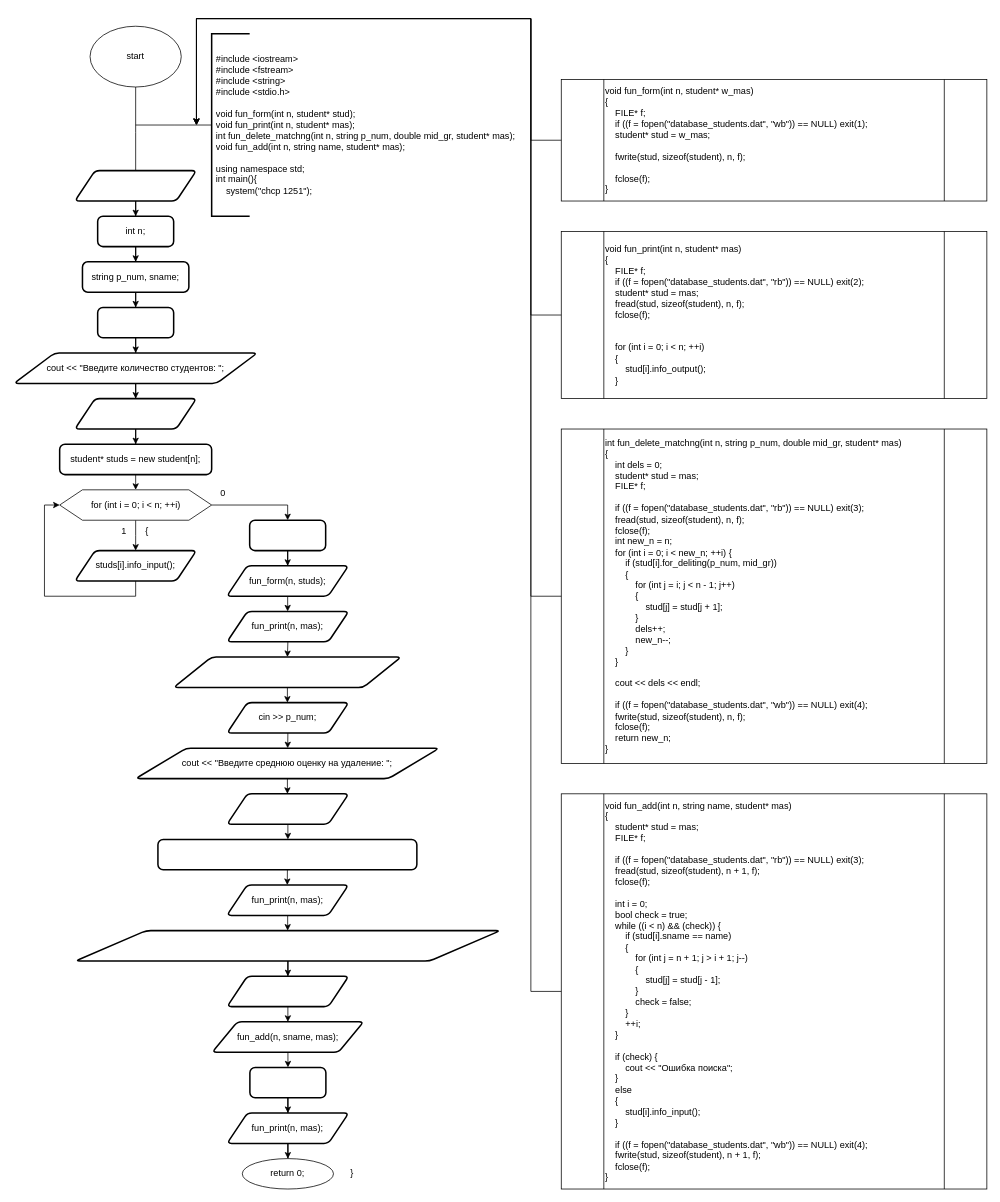
Some shapes in this 1000 by 1202 pixel diagram are drawn without their labels. Here are the shapes that lost their labels. From the top down, the centre of each, then its label:
point (135, 185): system("chcp 1251");
point (135, 322): int mid_gr;
point (135, 413): cin >> n;
point (287, 535): student mas[50];
point (287, 672): cout << "Введите номер на удаление: ";
point (287, 809): cin >> mid_gr;
point (287, 854): n = fun_delete_matchng(n, (string)p_num, mid_gr, mas);
point (287, 945): cout << "Введите фамилию, после которой нужно добавить элемент: ";
point (287, 991): cin >> sname;
point (287, 1082): n++;
